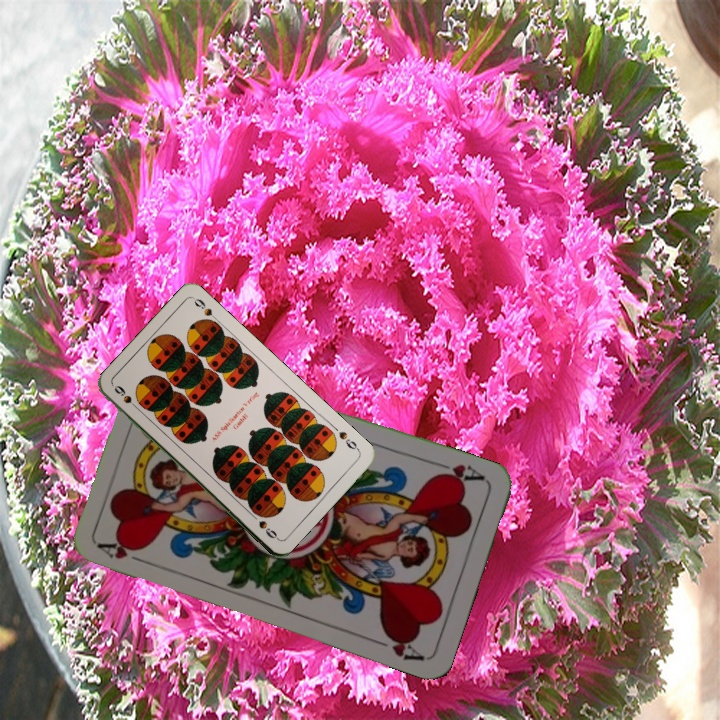HA: (95, 535, 153, 567), (430, 458, 488, 487)
S9: (110, 381, 143, 413), (335, 427, 362, 454)
